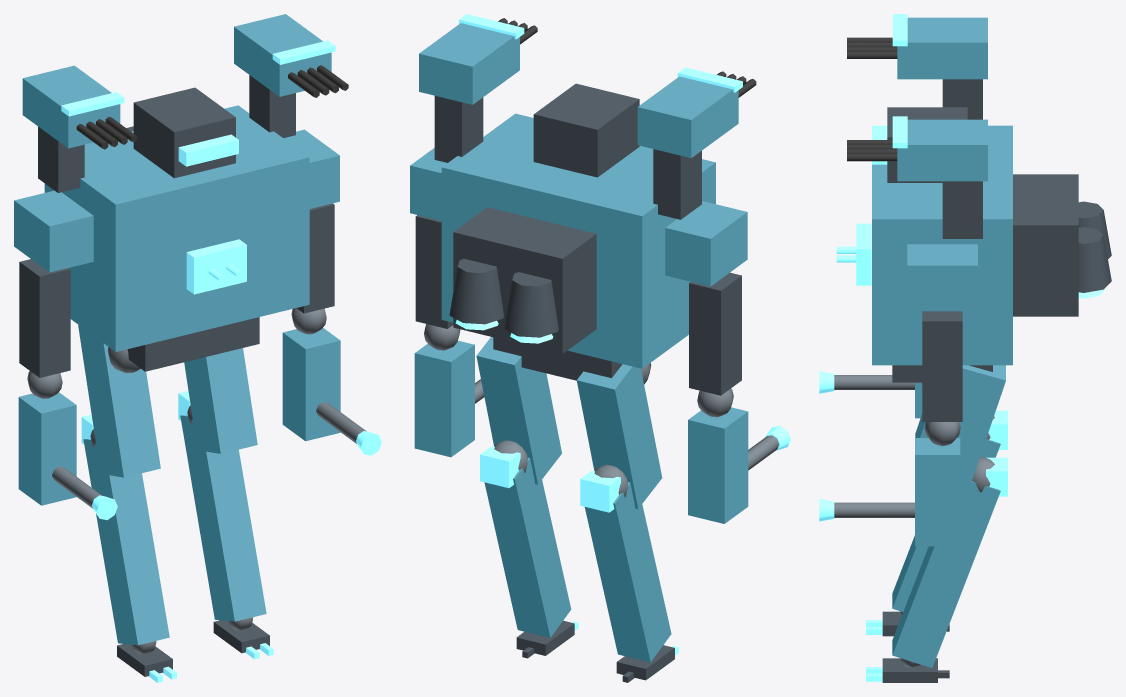
Rendered from timberwolf_mech.glb.
The picture shows the model from 3 angles, left to right: view 1: azimuth 30°, elevation 25°; view 2: azimuth 150°, elevation 25°; view 3: azimuth 270°, elevation 25°; orthographic projection. The views are drawn at different scales.
Visible parts, largest first — view 1: node (×27); view 2: node (×29); view 3: node (×26).
Boxes of the visible parts, x1=… form: node (×27): x1=14, y1=14, x2=366, y2=676; node (×29): x1=410, y1=14, x2=779, y2=680; node (×26): x1=834, y1=14, x2=1111, y2=682.
Bounding box in the file's own units: 3.4 × 6.3 × 2.91.
